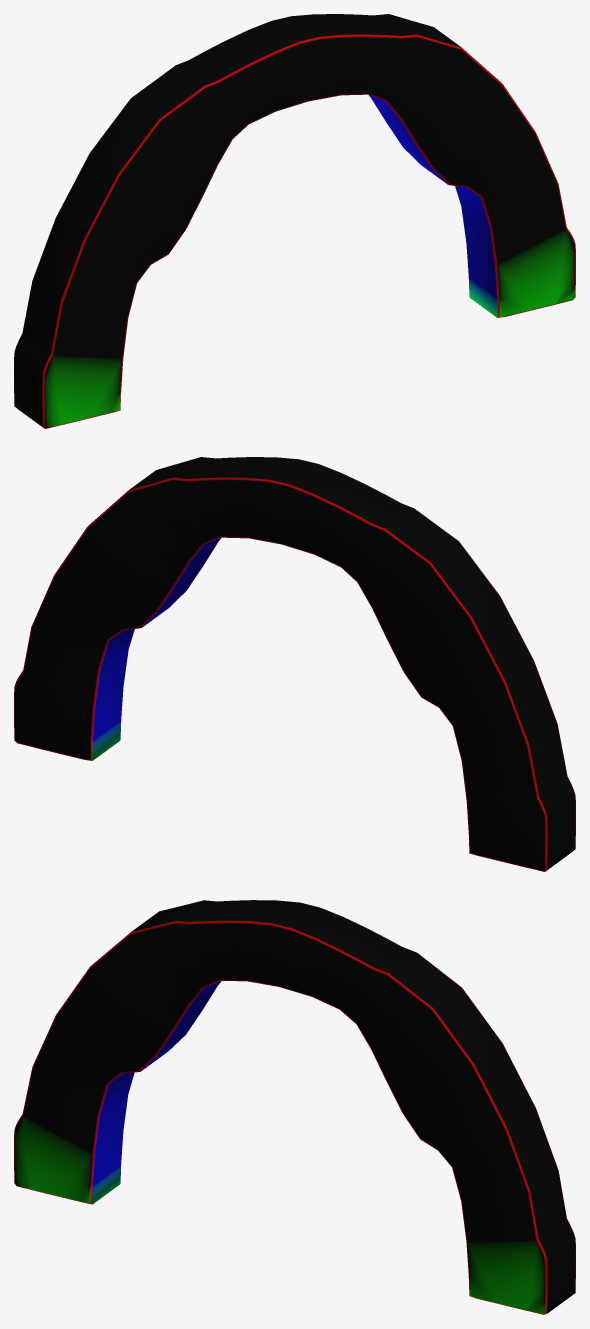
Rendered from GiantTunnelV1Separator.fbx.
3 renders of one model, top to bottom at view 1: azimuth 30°, elevation 25°; view 2: azimuth 150°, elevation 25°; view 3: azimuth 330°, elevation 25°, orthographic.
Visible parts, largest first — view 1: GiantTunnelV1Separator; view 2: GiantTunnelV1Separator; view 3: GiantTunnelV1Separator.
Boxes of the visible parts, x1,y1,x2,y2 form: GiantTunnelV1Separator: (14,14,575,428); GiantTunnelV1Separator: (14,457,575,871); GiantTunnelV1Separator: (14,900,575,1314).
Bounding box in the file's own units: 2219 × 1294 × 216.
